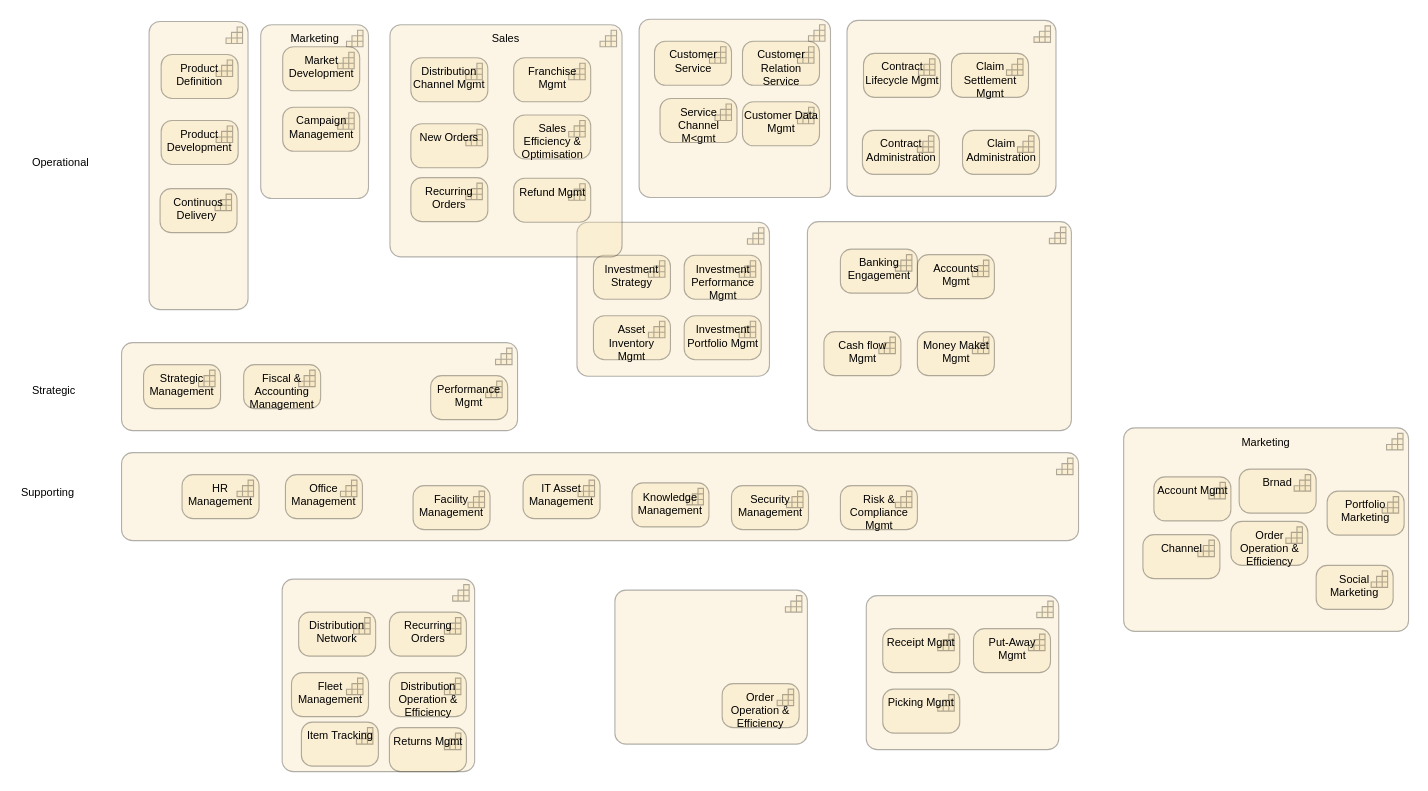
This 1428x791 diagram has some shape labels left out. Here are the shapes that lost their labels. From the top down, the box of each, then its label:
(638, 18, 831, 197): Customer Care
(846, 19, 1056, 196): Claims Management
(148, 20, 248, 310): Product Management
(576, 221, 769, 376): Asset Management
(806, 221, 1071, 431): Money Management
(120, 342, 518, 431): Business Management
(120, 452, 1079, 541): Business Support
(281, 578, 475, 772): Dist4ribution Management
(614, 589, 807, 744): Order Management
(865, 595, 1059, 750): Warehouse Management
